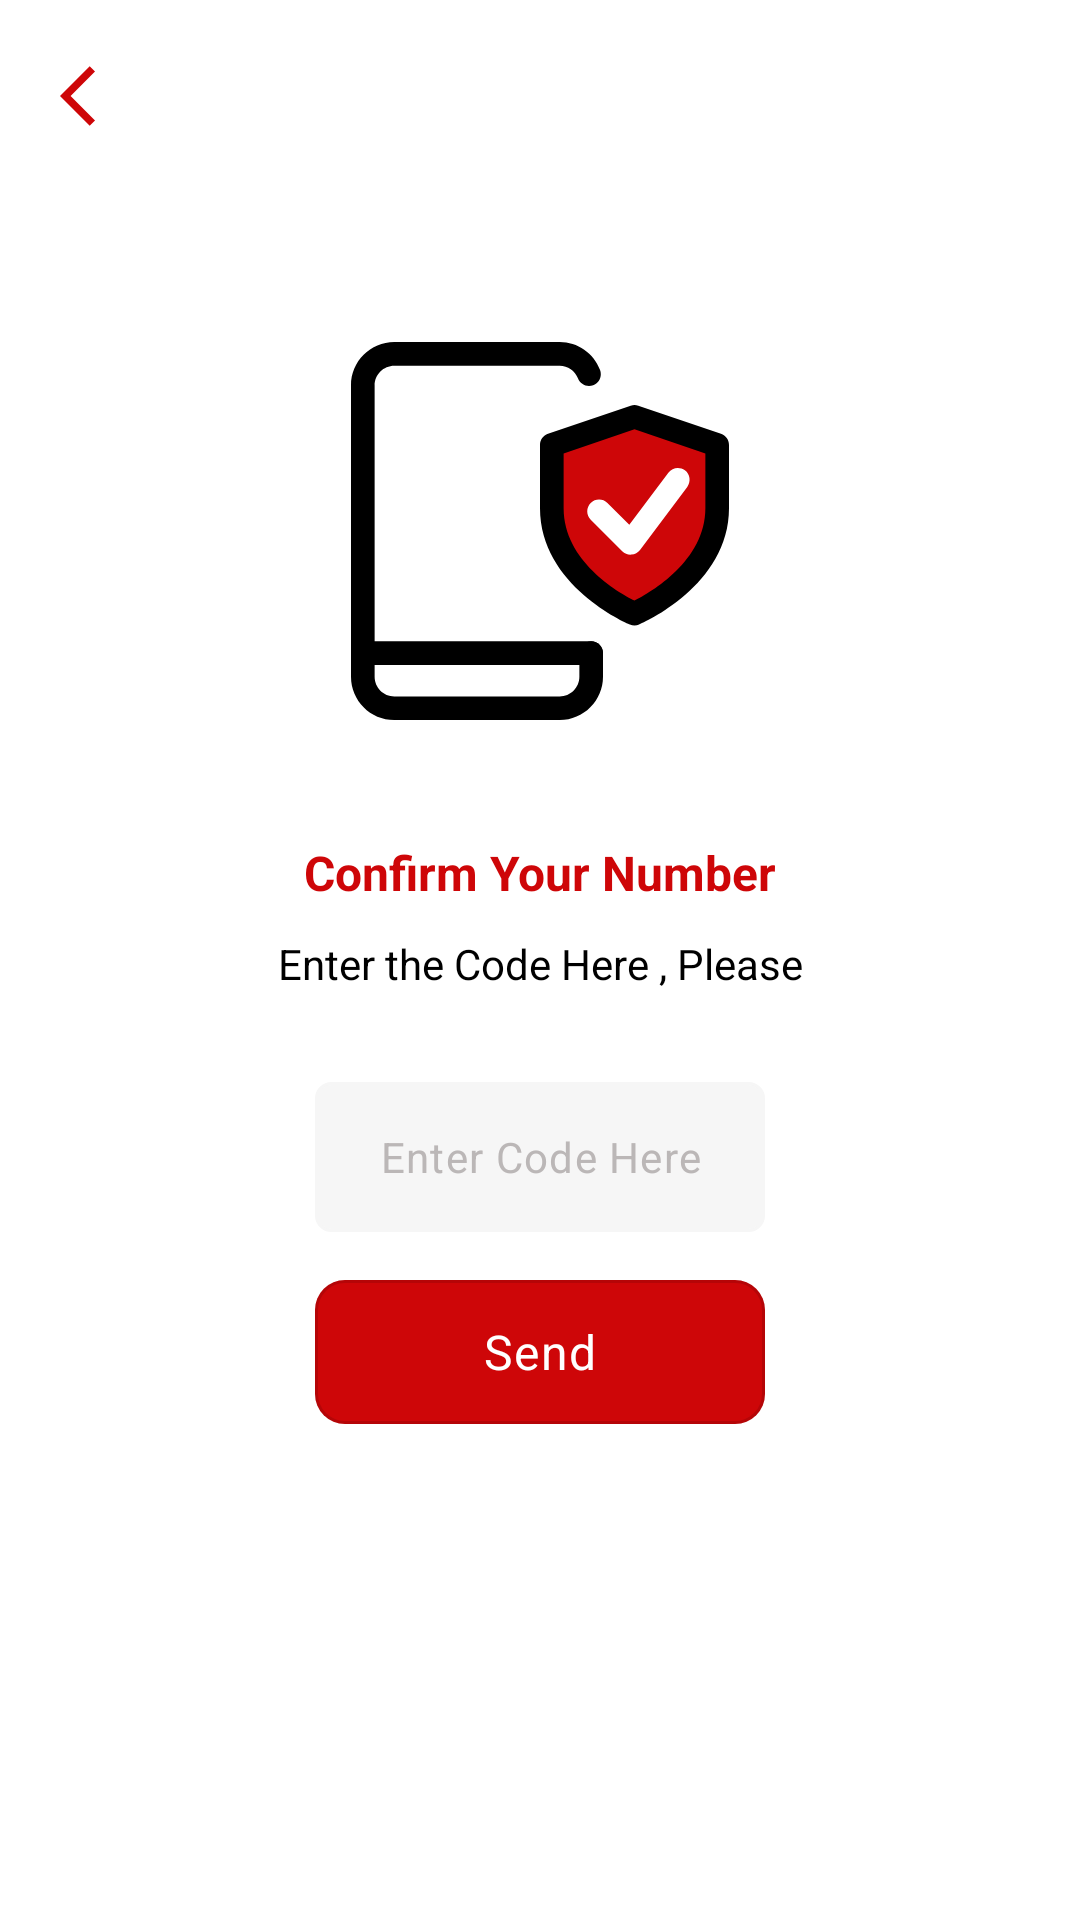

Named icons in this screenshot (1080*1920) and their centers, (x=x, y=y):
back arrow: (x=77, y=96)
